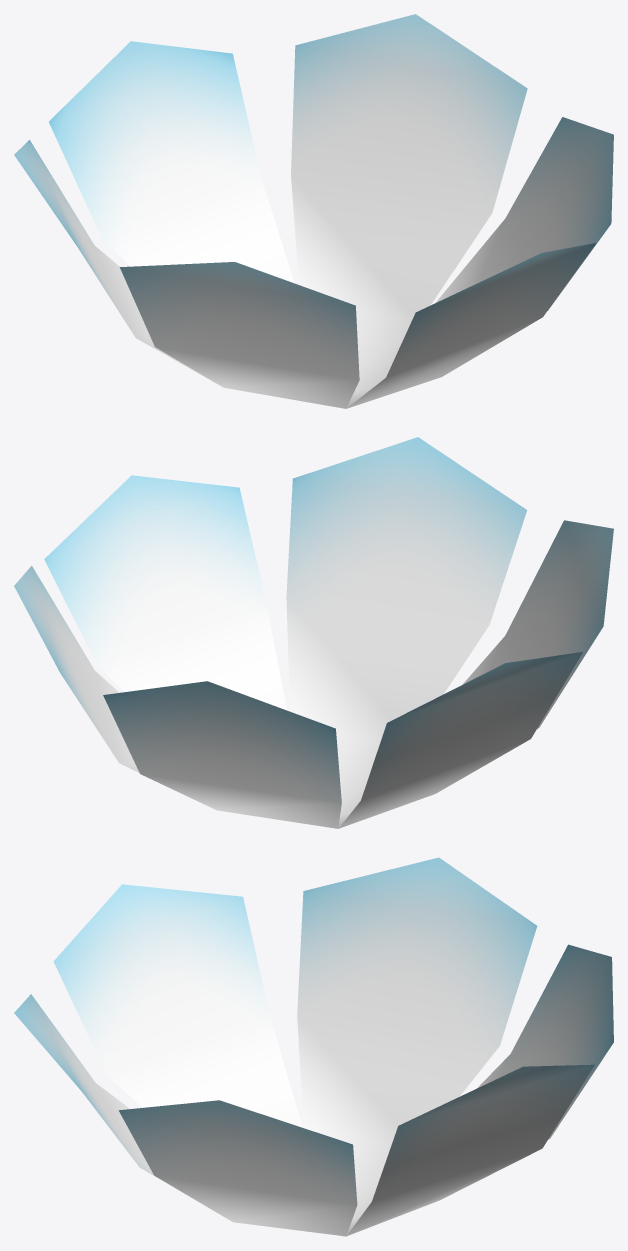
File: Flower_White.fbx
3 views of the same model, one above another, from view 1: azimuth 30°, elevation 25°; view 2: azimuth 150°, elevation 25°; view 3: azimuth 270°, elevation 25° (orthographic). The views are drawn at different scales.
Parts seen in each view (by area): view 1: Flower_White; view 2: Flower_White; view 3: Flower_White.
Boxes of the visible parts, x1=… form: Flower_White: x1=14, y1=14, x2=613, y2=408; Flower_White: x1=14, y1=437, x2=613, y2=828; Flower_White: x1=14, y1=857, x2=613, y2=1236.
Size of the model in its own units: 0.2695 by 0.1311 by 0.2846.
Materials: 1 (1 with a texture image).
